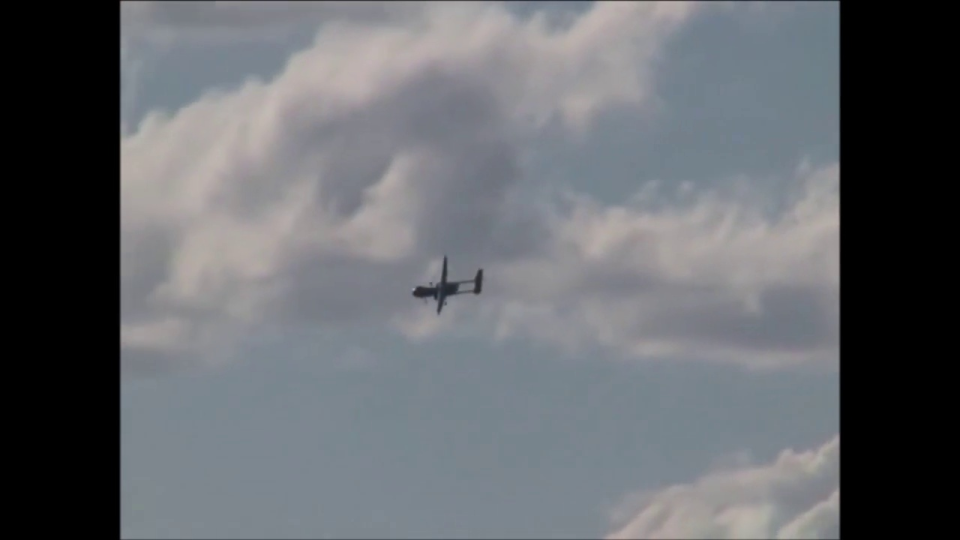military drone: (409, 255, 483, 315)
